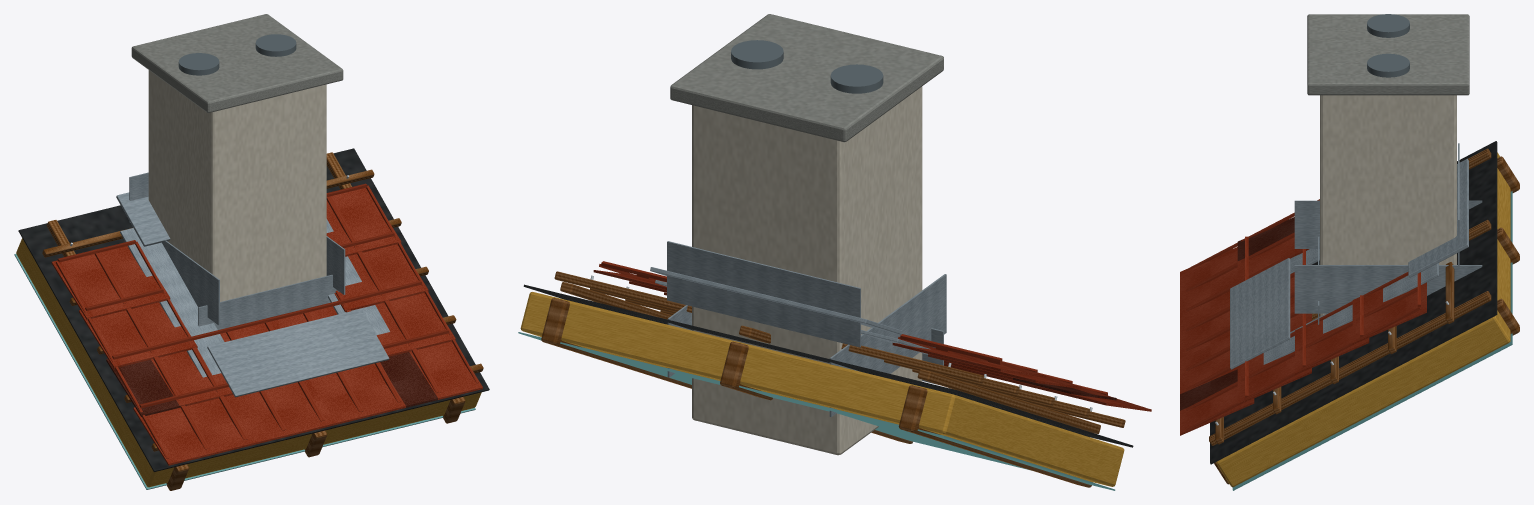
Rendered from modell.glb.
3 views of the same model, side by side, from view 1: azimuth 30°, elevation 25°; view 2: azimuth 150°, elevation 25°; view 3: azimuth 270°, elevation 25° (orthographic). The views are drawn at different scales.
Visible parts, largest first — view 1: s08-deckziegel_deckung, s08-schornstein_, s08-vorderteil_deckung, s08-schornstein_.001, s08-zusatzebene_zusatzebene, s08-daemmung_daemmung, s08-seitenteil_deckung, s08-deckziegel_deckung.001, s08-lattung_lattung, s08-rueckenteil_deckung, s08-schornstein_.002, s08-luftdichtheit_luftdichtheit (+1 smaller); view 2: s08-schornstein_, s08-daemmung_daemmung, s08-schornstein_.001, s08-rueckenteil_deckung, s08-lattung_lattung, s08-seitenteil_deckung, s08-deckziegel_deckung, s08-sparren_tragwerk, s08-luftdichtheit_luftdichtheit, s08-zusatzebene_zusatzebene, s08-schornstein_.002; view 3: s08-schornstein_, s08-deckziegel_deckung, s08-zusatzebene_zusatzebene, s08-schornstein_.001, s08-daemmung_daemmung, s08-seitenteil_deckung, s08-vorderteil_deckung, s08-lattung_lattung, s08-rueckenteil_deckung, s08-deckziegel_deckung.001, s08-schornstein_.002, s08-luftdichtheit_luftdichtheit (+1 smaller).
Part boxes in pixels (box(x1,y1,x2,y2)): s08-deckziegel_deckung: box(51, 183, 482, 465); s08-schornstein_: box(148, 70, 326, 301); s08-vorderteil_deckung: box(198, 275, 389, 397); s08-schornstein_.001: box(131, 14, 343, 112); s08-zusatzebene_zusatzebene: box(18, 148, 489, 471); s08-daemmung_daemmung: box(16, 238, 481, 487); s08-seitenteil_deckung: box(120, 219, 389, 377); s08-deckziegel_deckung.001: box(106, 352, 437, 416); s08-lattung_lattung: box(42, 152, 483, 451); s08-rueckenteil_deckung: box(116, 172, 170, 246); s08-schornstein_.002: box(178, 34, 296, 75); s08-luftdichtheit_luftdichtheit: box(14, 254, 475, 489); s08-schornstein_: box(692, 86, 922, 455); s08-daemmung_daemmung: box(520, 292, 1124, 486); s08-schornstein_.001: box(670, 14, 943, 142); s08-rueckenteil_deckung: box(650, 241, 902, 347); s08-lattung_lattung: box(554, 271, 1125, 433); s08-seitenteil_deckung: box(655, 274, 946, 416); s08-deckziegel_deckung: box(593, 261, 1151, 411); s08-sparren_tragwerk: box(541, 298, 1091, 487); s08-luftdichtheit_luftdichtheit: box(518, 332, 1115, 490); s08-zusatzebene_zusatzebene: box(523, 284, 1133, 447); s08-schornstein_.002: box(731, 40, 883, 93); s08-schornstein_: box(1320, 95, 1456, 316); s08-deckziegel_deckung: box(1180, 199, 1426, 435); s08-zusatzebene_zusatzebene: box(1210, 141, 1497, 464); s08-schornstein_.001: box(1307, 14, 1469, 95); s08-daemmung_daemmung: box(1216, 152, 1510, 487); s08-seitenteil_deckung: box(1263, 200, 1482, 364); s08-vorderteil_deckung: box(1230, 236, 1319, 369); s08-lattung_lattung: box(1209, 148, 1491, 445); s08-rueckenteil_deckung: box(1408, 143, 1468, 277); s08-deckziegel_deckung.001: box(1180, 217, 1294, 410); s08-schornstein_.002: box(1367, 14, 1409, 77); s08-luftdichtheit_luftdichtheit: box(1232, 191, 1512, 490).
Size of the model in its own units: 2.09 by 2.08 by 1.74.
11 materials, 8 textured.
